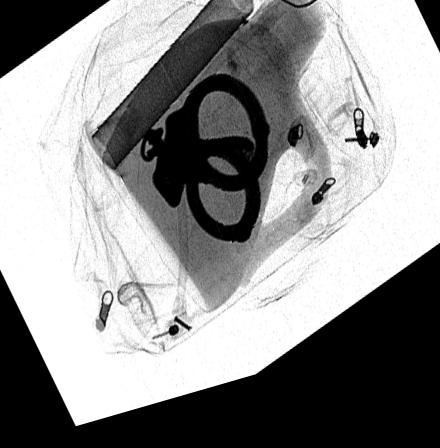HandCuffs: (139, 84, 270, 258)
